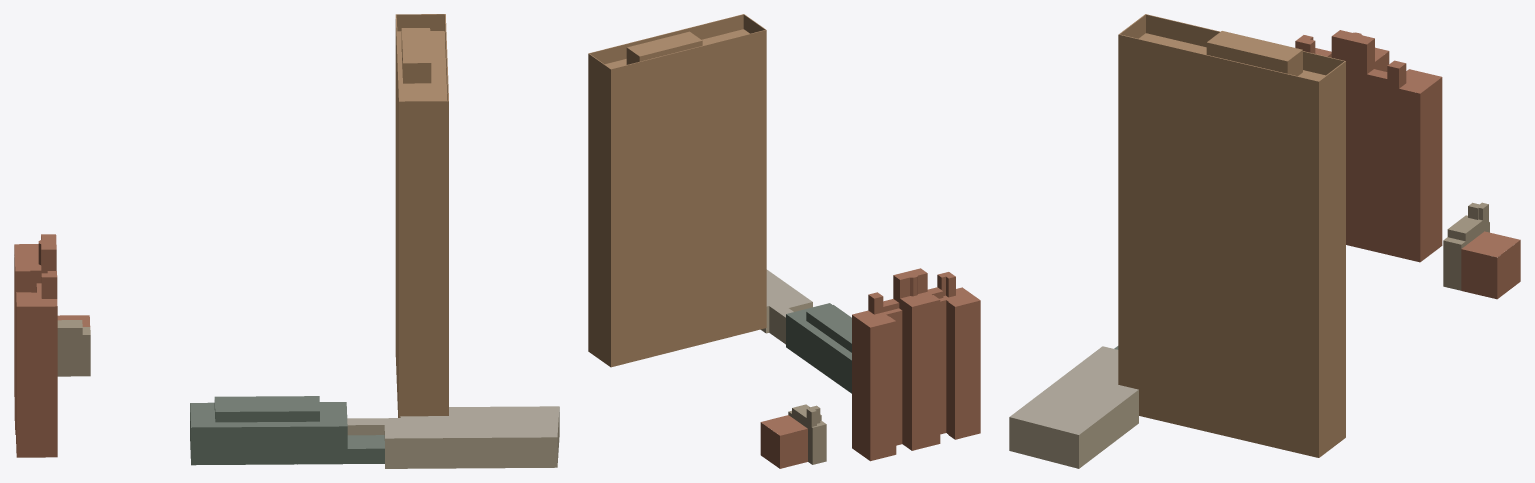
Rendered from tile-12_-11.glb.
3 views of the same model, side by side, from view 1: azimuth 30°, elevation 25°; view 2: azimuth 150°, elevation 25°; view 3: azimuth 270°, elevation 25° (orthographic). The views are drawn at different scales.
Visible parts, largest first — view 1: wall, roof; view 2: wall, roof; view 3: wall, roof.
Part boxes in pixels (x1,y1,x2,y2): wall: [14, 14, 559, 468]; roof: [14, 14, 559, 448]; wall: [588, 14, 980, 468]; roof: [588, 14, 980, 435]; wall: [1009, 14, 1520, 468]; roof: [1010, 14, 1520, 434].
Size of the model in its own units: 214 by 161 by 192.
